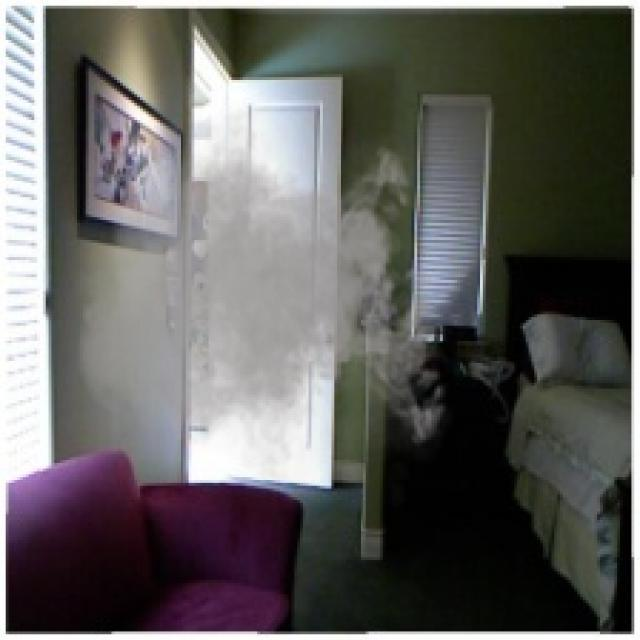Smoke: (72, 86, 457, 506)
